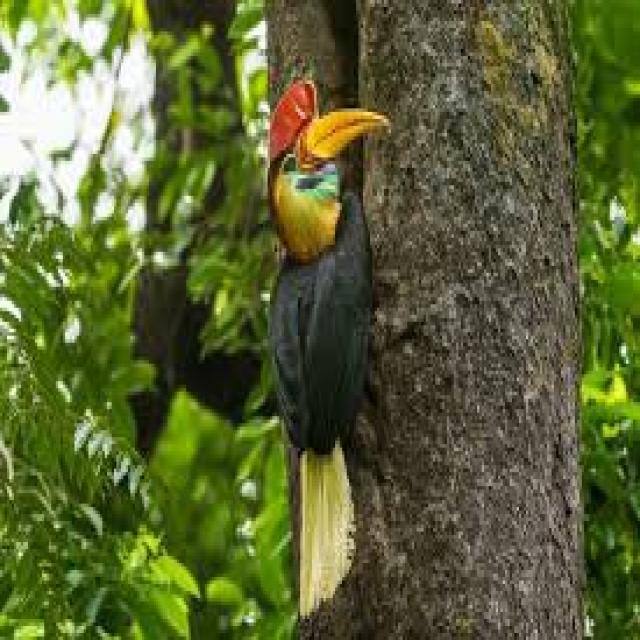Hornbill: (261, 75, 382, 610)
